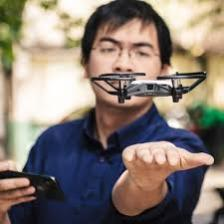drone: (93, 72, 210, 102)
